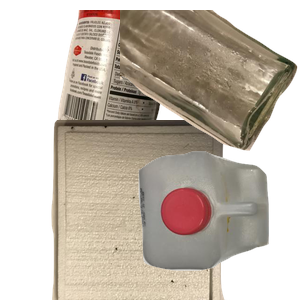glass: (120, 10, 300, 153)
metal: (55, 10, 227, 149)
plastic: (136, 149, 300, 300)
trash: (49, 120, 269, 300)
